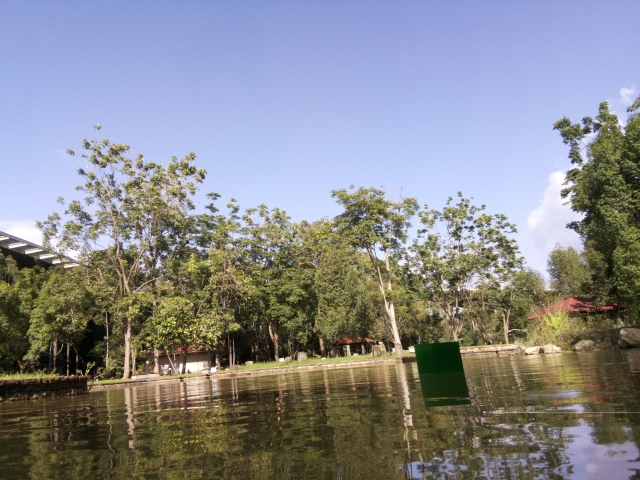obstacle: (411, 339, 467, 377)
